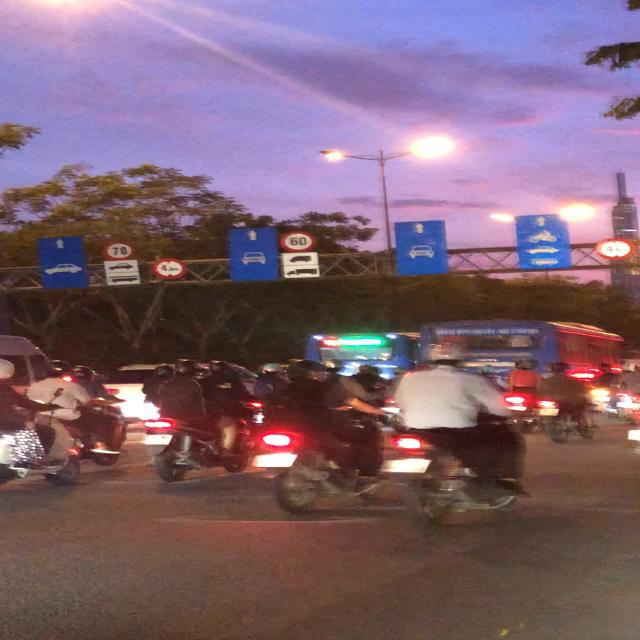Bien bao han che chieu cao: (593, 235, 637, 262), (150, 255, 192, 282)
Bien bao toc do toi da cho phep: (276, 229, 316, 255), (96, 240, 138, 263)
